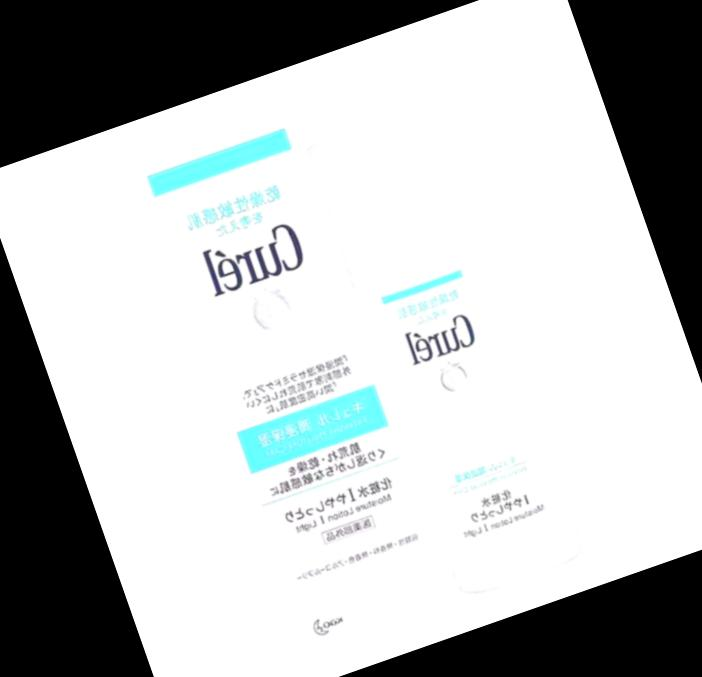cosmetic: (300, 103, 583, 589)
